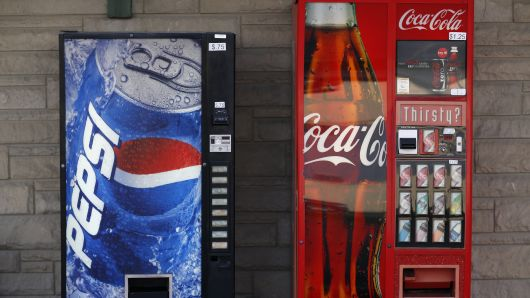pepsi: (102, 134, 199, 215)
